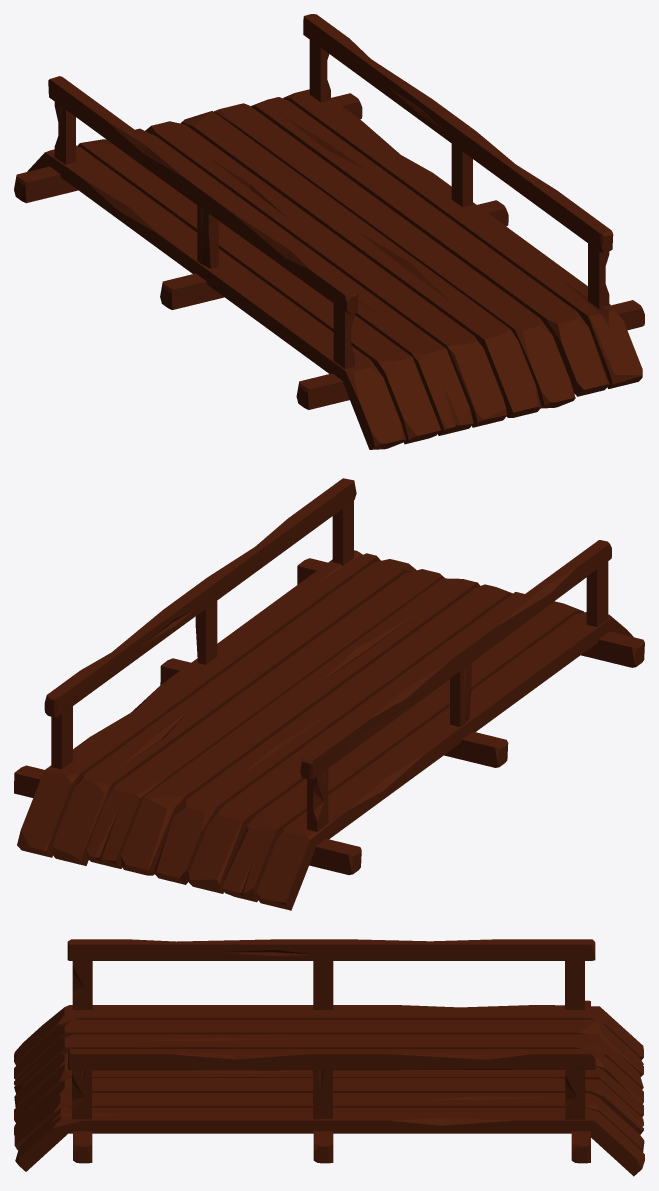
Rendered from Bridge_2.001.fbx.
3 renders of one model, top to bottom at view 1: azimuth 30°, elevation 25°; view 2: azimuth 150°, elevation 25°; view 3: azimuth 270°, elevation 25°, orthographic. The views are drawn at different scales.
Visible parts, largest first — view 1: Bridge_2.001; view 2: Bridge_2.001; view 3: Bridge_2.001.
Boxes of the visible parts, <box> form: Bridge_2.001: <box>14,14,644,449</box>; Bridge_2.001: <box>14,478,644,910</box>; Bridge_2.001: <box>14,939,644,1176</box>.
Size of the model in its own units: 98.34 by 38.47 by 181.
